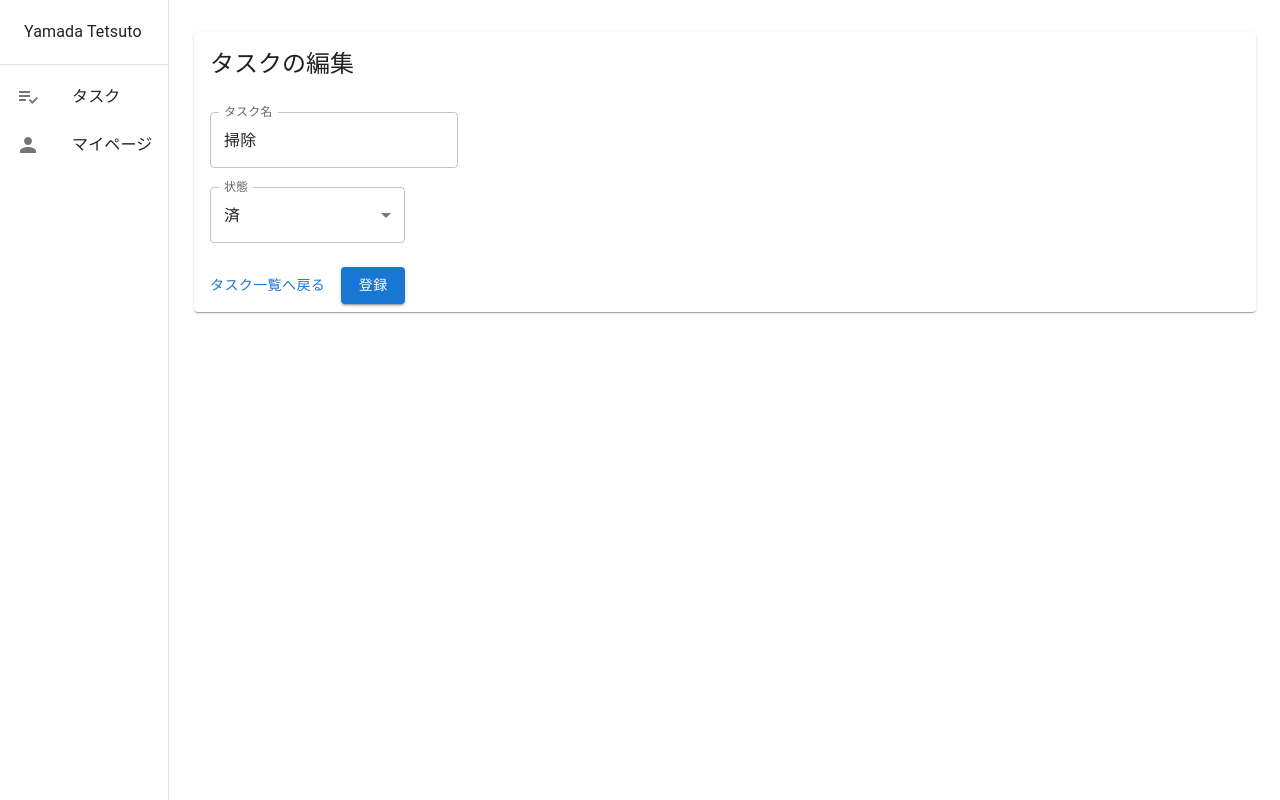
Test: TaskUpdate › 空白でエラー
Step 1. Clear the field with test id "TaskUpdateName" → (334, 140), box [210,112,458,168]
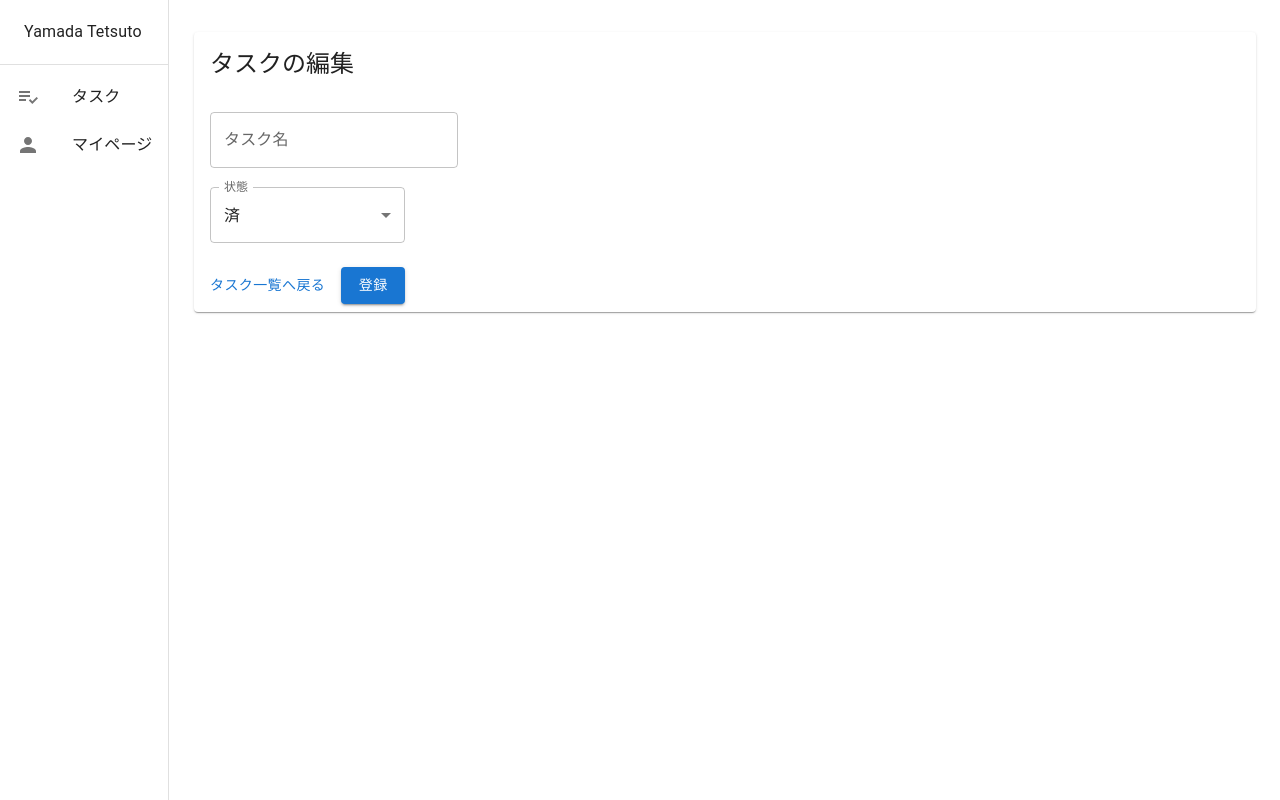
Step 2. Click the button with test id "TaskUpdateSubmitBtn" → click(373, 285), box [341,267,405,304]
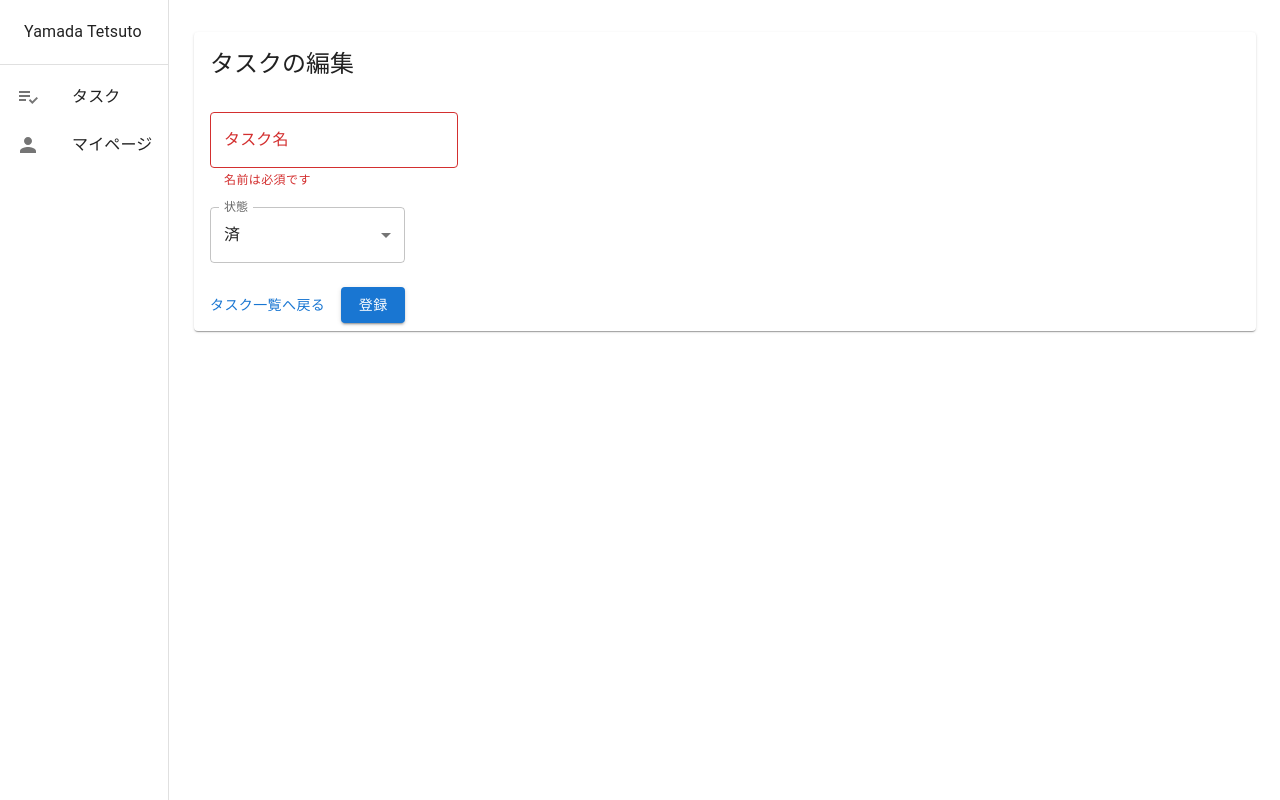
Expected: the text with test id "TaskUpdateNameErr" reads "名前は必須です", [224,173,311,187]
